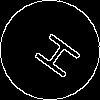H: (25, 25, 83, 81)
